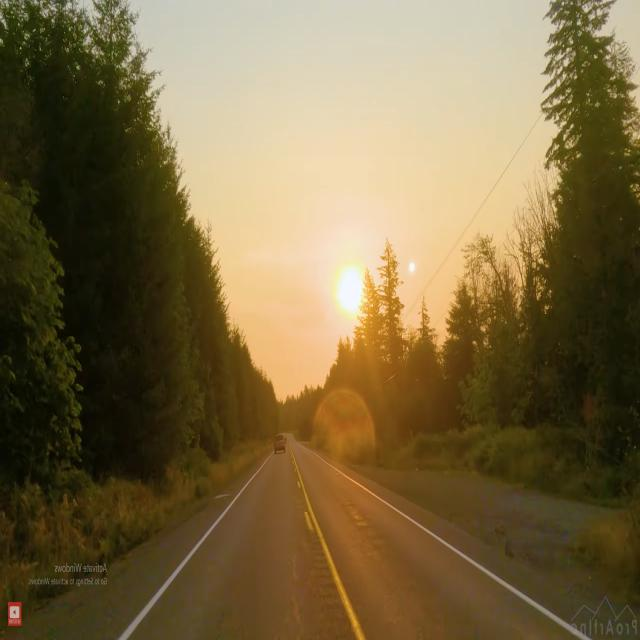sun: (331, 248, 366, 324)
